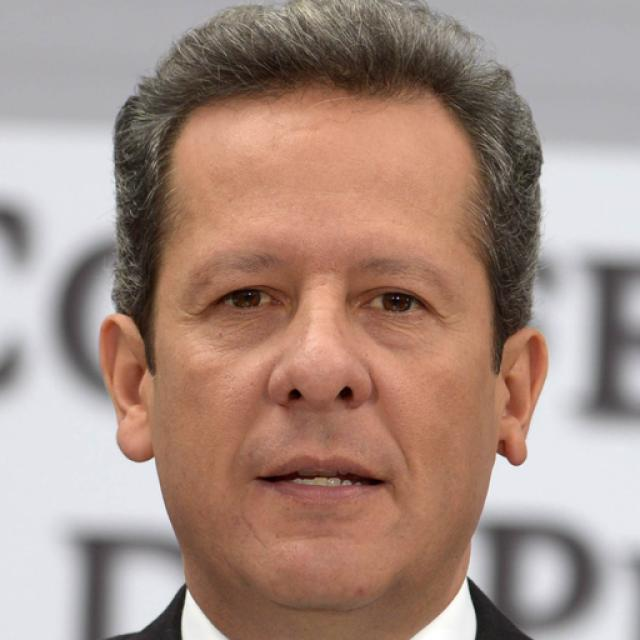neutral: (153, 84, 497, 610)
